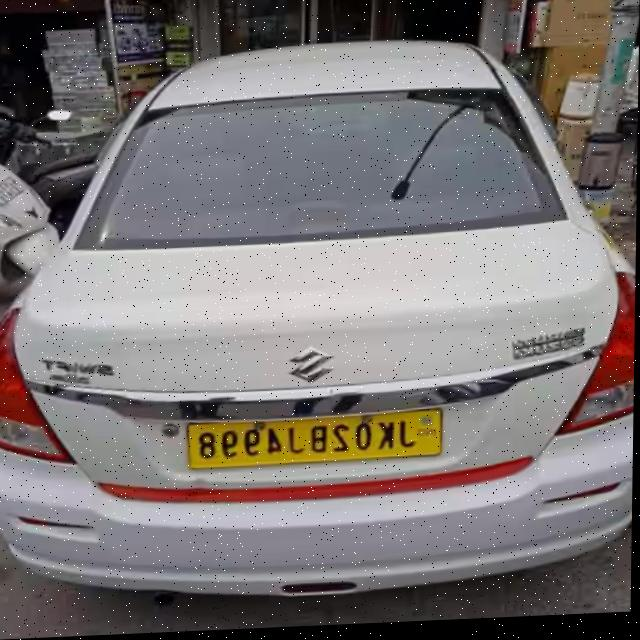plate: (179, 404, 453, 480), (0, 161, 33, 210)
